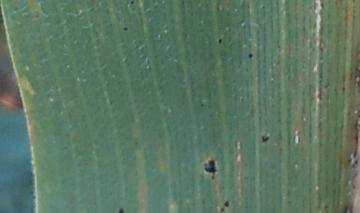tarspot: (200, 153, 220, 183), (258, 129, 272, 147), (223, 198, 233, 209), (246, 50, 255, 61), (218, 35, 224, 48), (217, 206, 227, 213), (122, 25, 130, 33), (117, 205, 125, 213), (128, 1, 136, 7)
